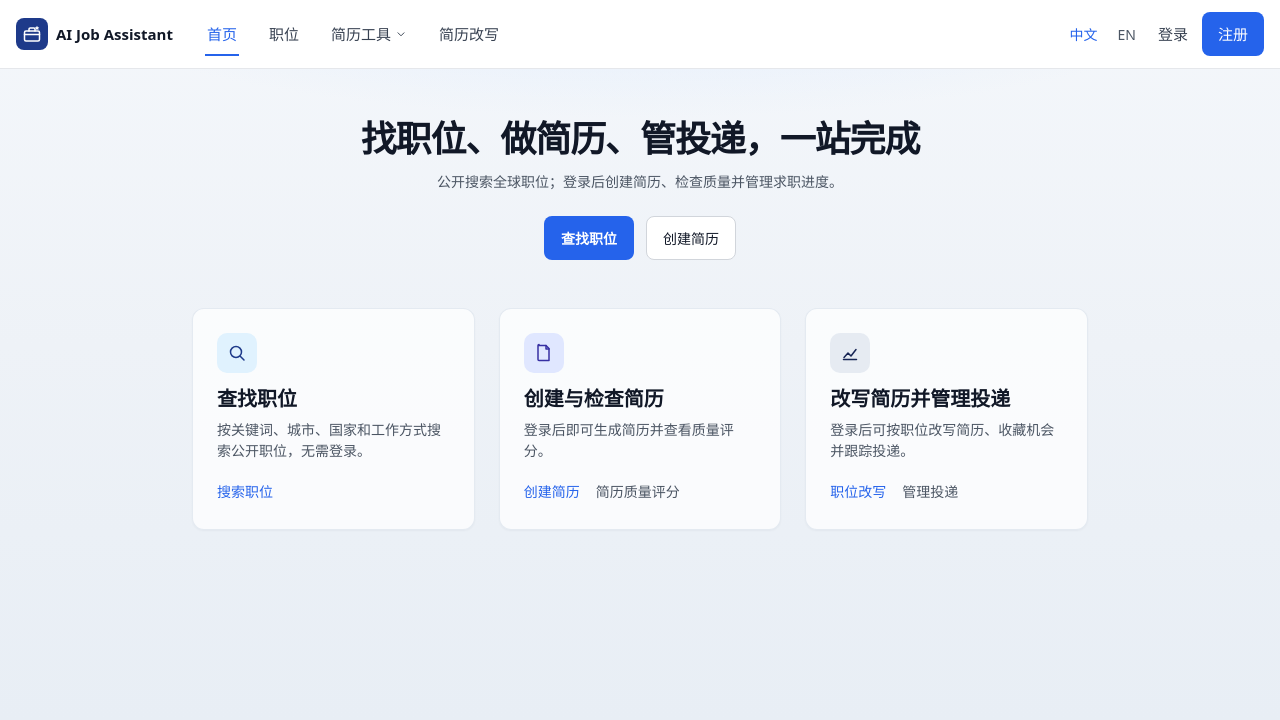
design preview (DEV prototype) › switches product copy and nav labels together in English
Click the button "EN". click: [1127, 34]
box: [1110,12,1144,56]
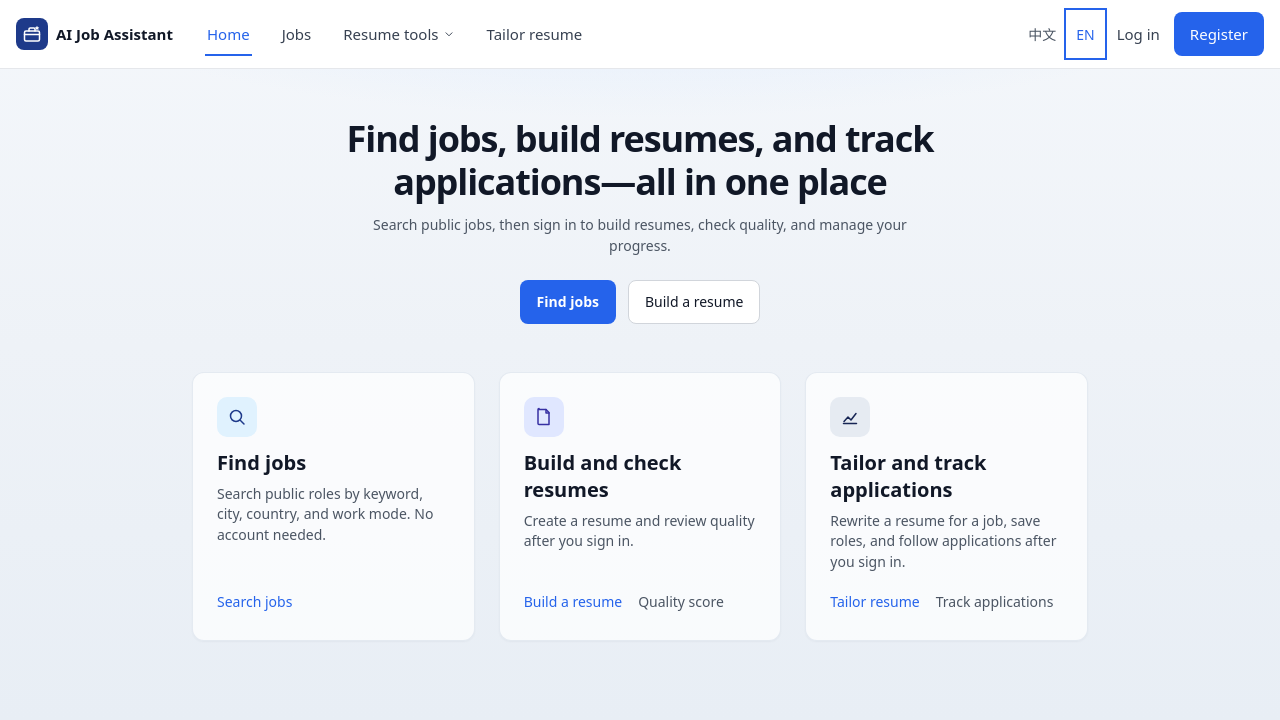
expect the heading "Find jobs, build resumes" is shown: met, box [320,117,960,203]
expect the button "Resume tools" is shown: met, box [341,12,457,56]
expect the link "Tailor resume" is shown: met, box [484,12,584,56]
